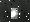person: (13, 9, 22, 20)
